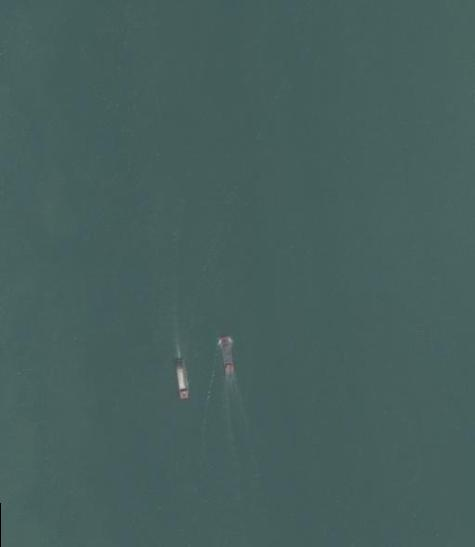ship: (174, 358, 193, 401), (218, 334, 236, 377)
